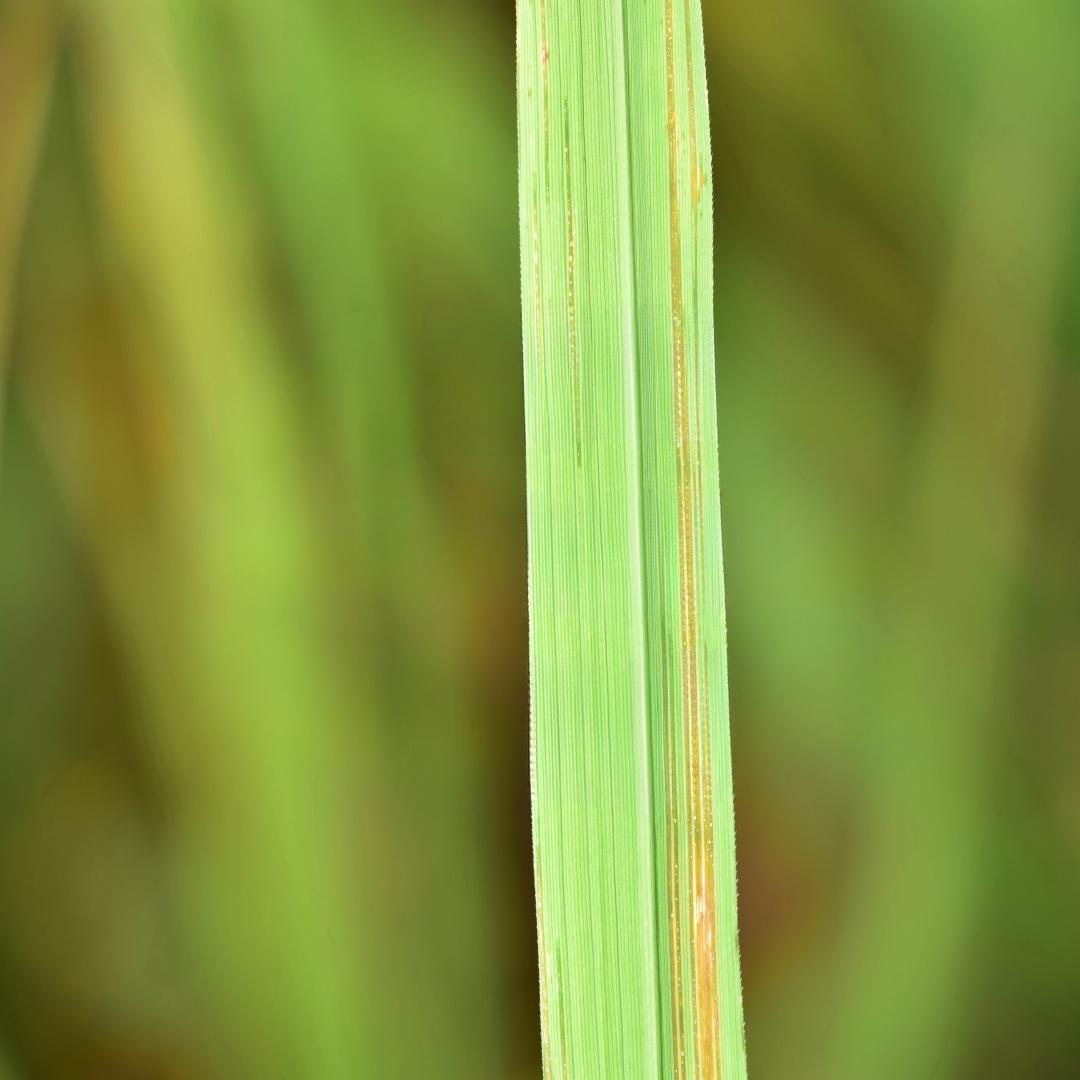BLS: (665, 0, 722, 1079), (684, 0, 707, 607), (661, 619, 687, 1079), (564, 97, 581, 467), (536, 855, 553, 1079), (541, 0, 549, 205), (556, 944, 568, 1079), (533, 193, 540, 364)
LEAF: (517, 0, 748, 1079)
